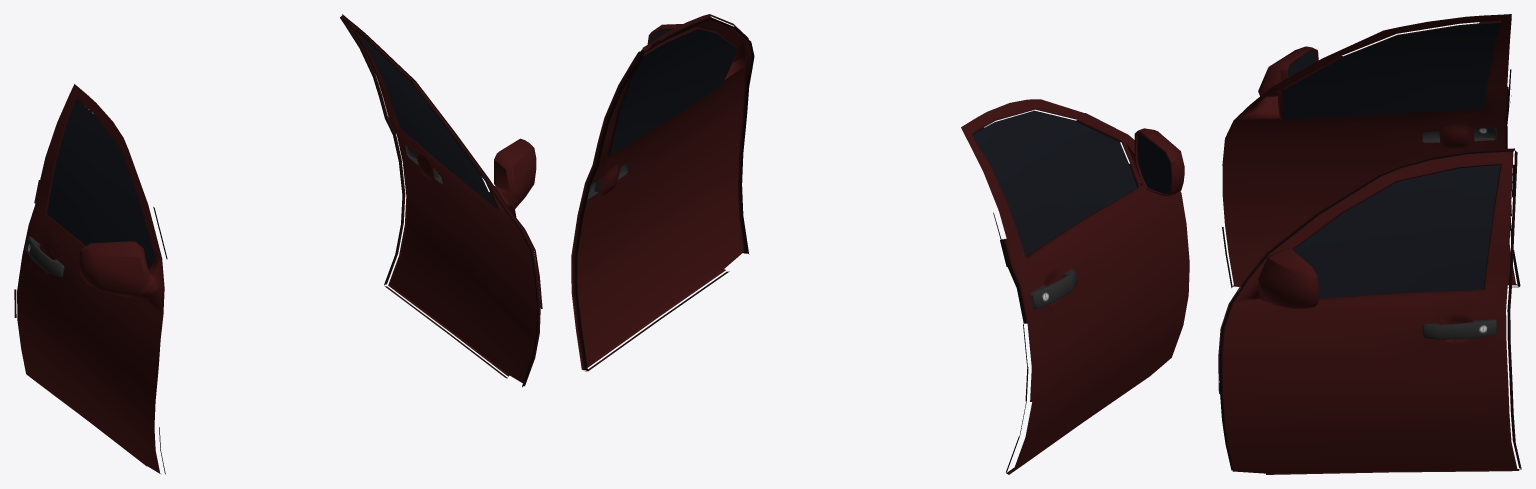
File: Pickup_puerta.obj
3 renders of one model, left to right at view 1: azimuth 30°, elevation 25°; view 2: azimuth 150°, elevation 25°; view 3: azimuth 270°, elevation 25°, orthographic. The views are drawn at different scales.
Visible parts, largest first — view 1: L200-OBJ.000_L200-OBJ.001; view 2: L200-OBJ.000_L200-OBJ.001; view 3: L200-OBJ.000_L200-OBJ.001.
Boxes of the visible parts, x1=… form: L200-OBJ.000_L200-OBJ.001: x1=14, y1=14, x2=542, y2=474; L200-OBJ.000_L200-OBJ.001: x1=571, y1=14, x2=1189, y2=474; L200-OBJ.000_L200-OBJ.001: x1=1218, y1=14, x2=1521, y2=474.
Size of the model in its own units: 37.12 by 22.63 by 20.59.
Materials: 1 (1 with a texture image).
